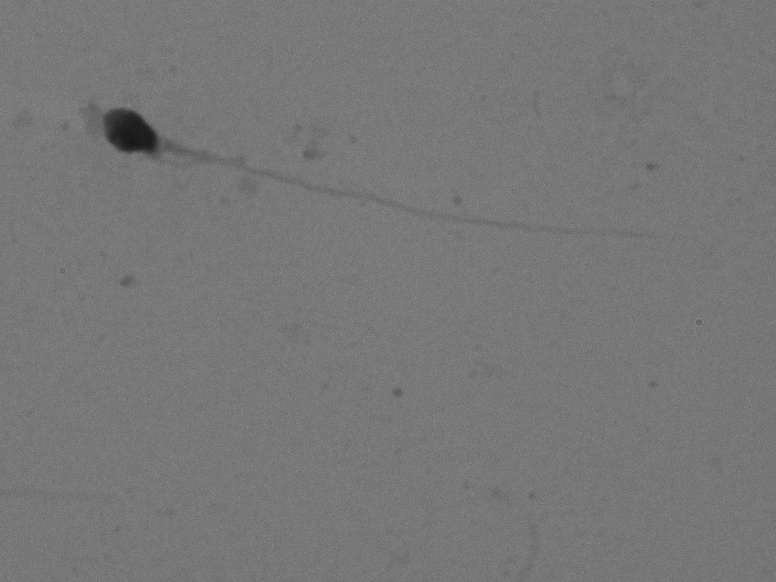Abnormal: (83, 82, 720, 281)
